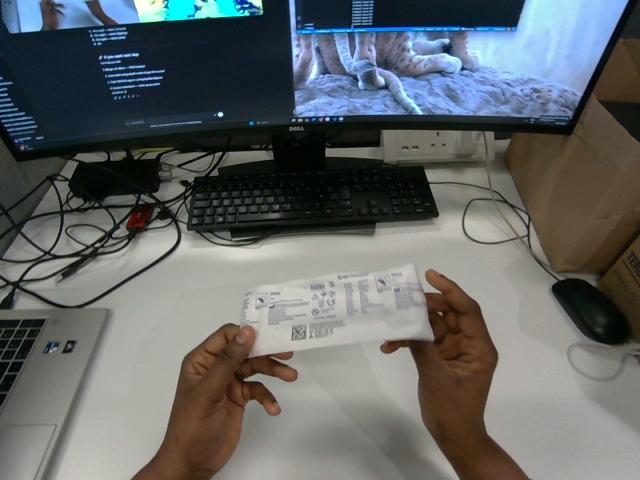syringe: (240, 264, 433, 356)
